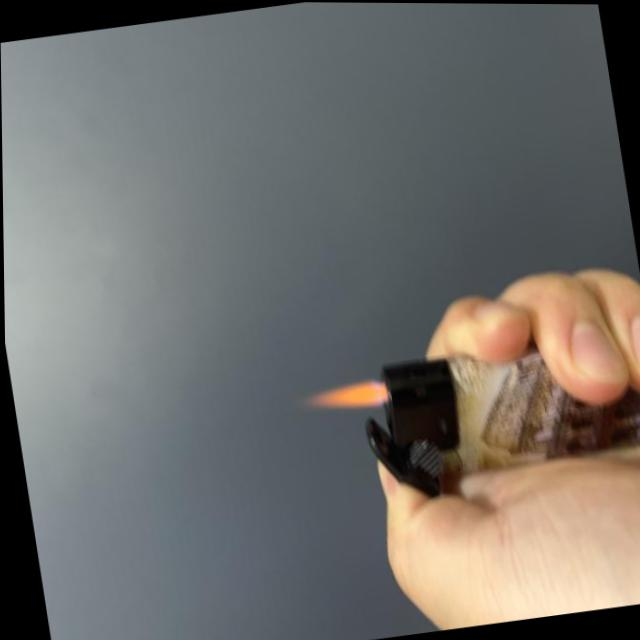Fire: (302, 374, 386, 420)
